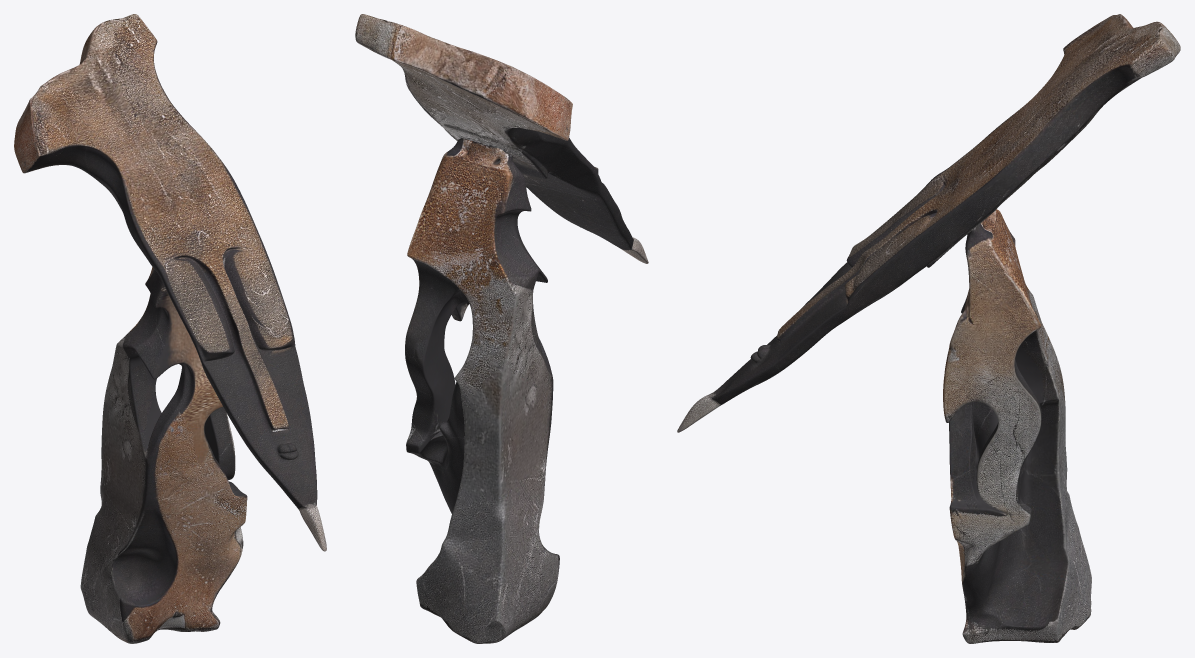
File: the-old-man-uploaded-v1.glb
3 views of the same model, side by side, from view 1: azimuth 30°, elevation 25°; view 2: azimuth 150°, elevation 25°; view 3: azimuth 270°, elevation 25° (orthographic). The views are drawn at different scales.
Bounding box in the file's own units: 0.6117 × 1.9 × 1.41.
Materials: 1 (1 with a texture image).
